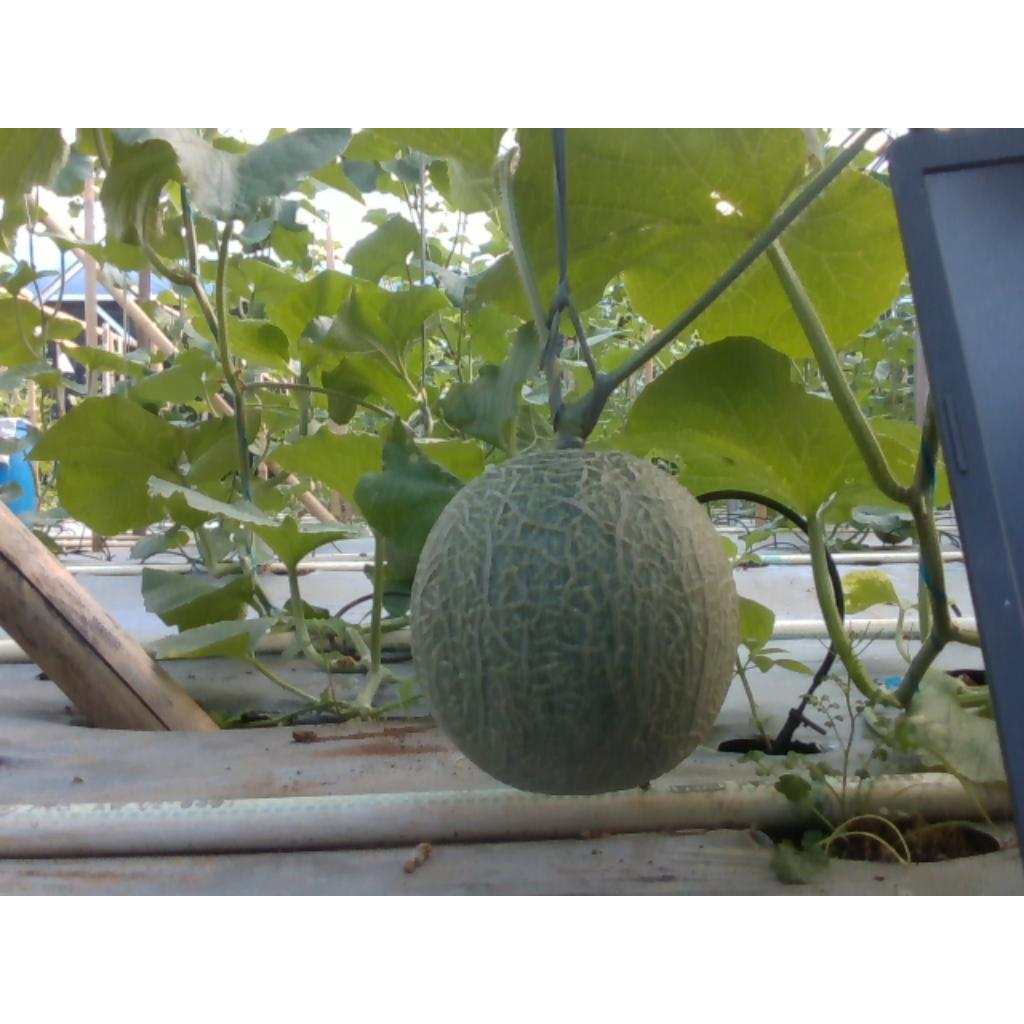melon: (413, 451, 741, 794)
